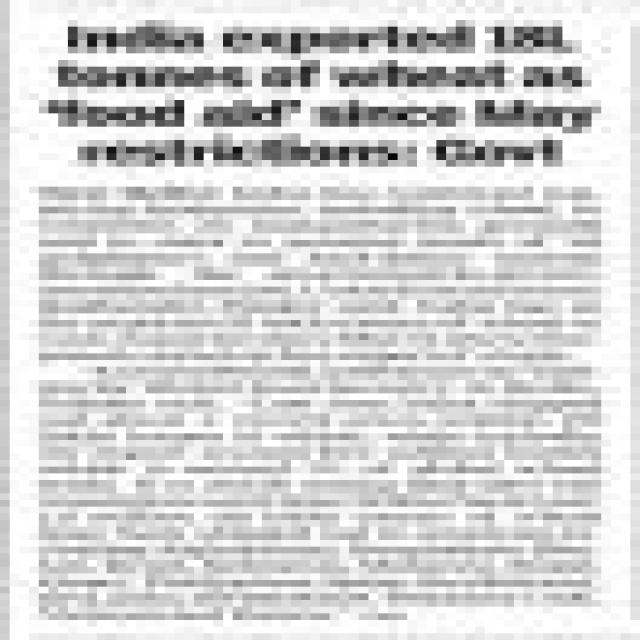paper: (9, 6, 640, 640)
